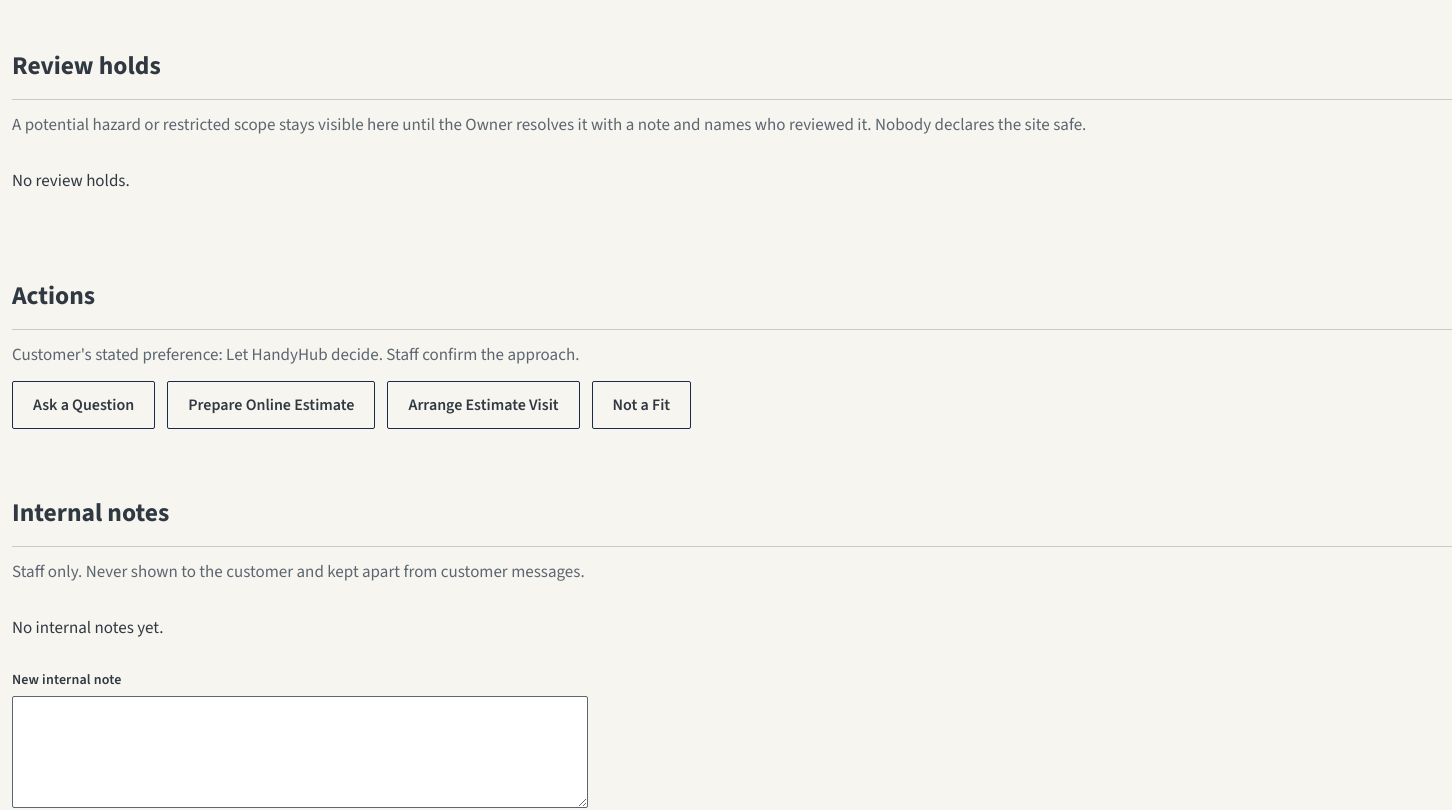
Test case: the four actions (TSK-0042, HH-LEAD-02, HH-LEAD-08, OWN-DEC-100) › [HH-LEAD-02] a stale version shows the conflict banner instead of overwriting
(page scrolled)
Click the button "Ask a Question" at (84,405), box [12,381,155,429]
(page scrolled)
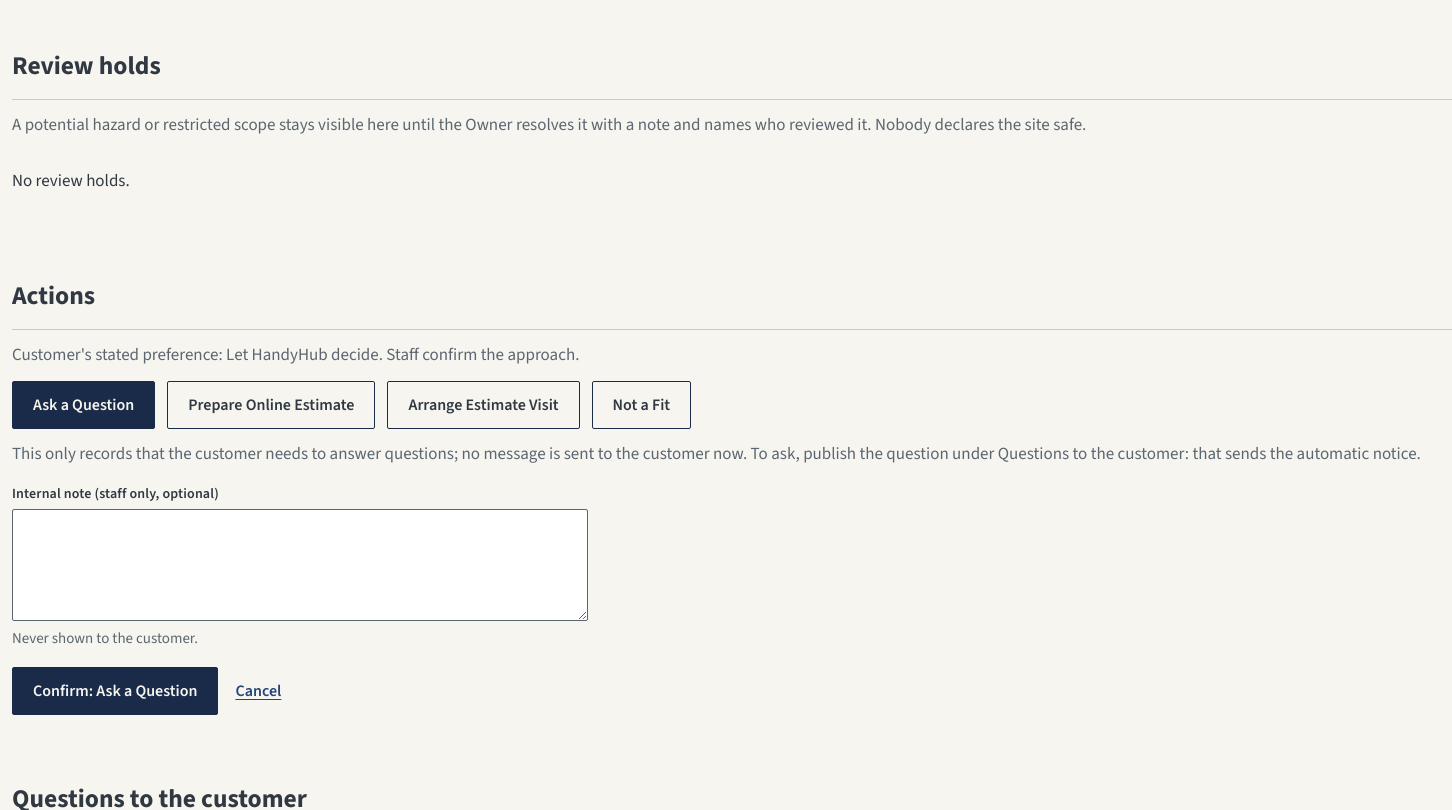
Now the text "no message is sent to the customer now" is shown, box [12,442,1421,466]
Click the button "Confirm: Ask a Question" at (115,691), box [12,667,218,715]
(page scrolled)
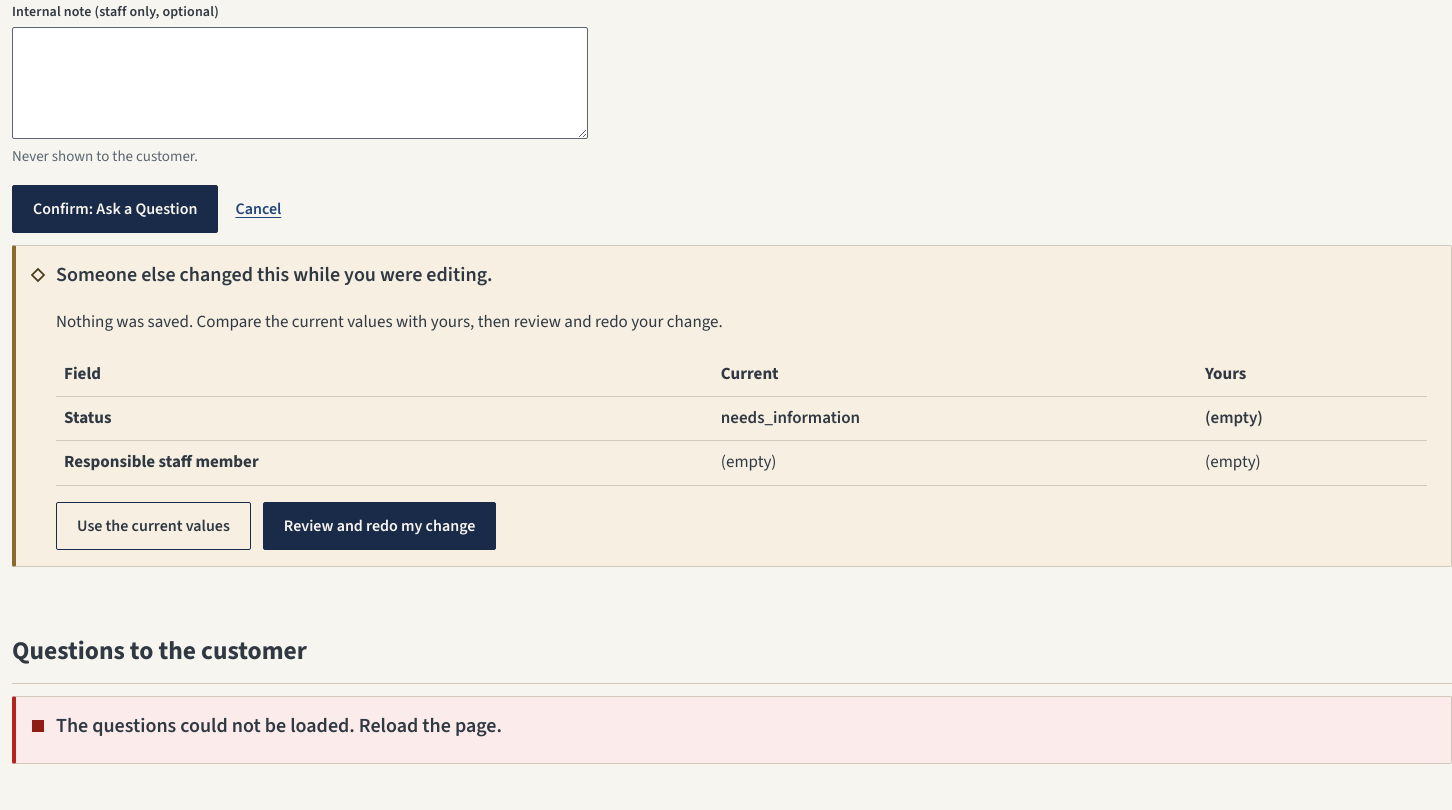
Now the element with test id "conflict-banner" is shown, box [12,245,1451,567]
